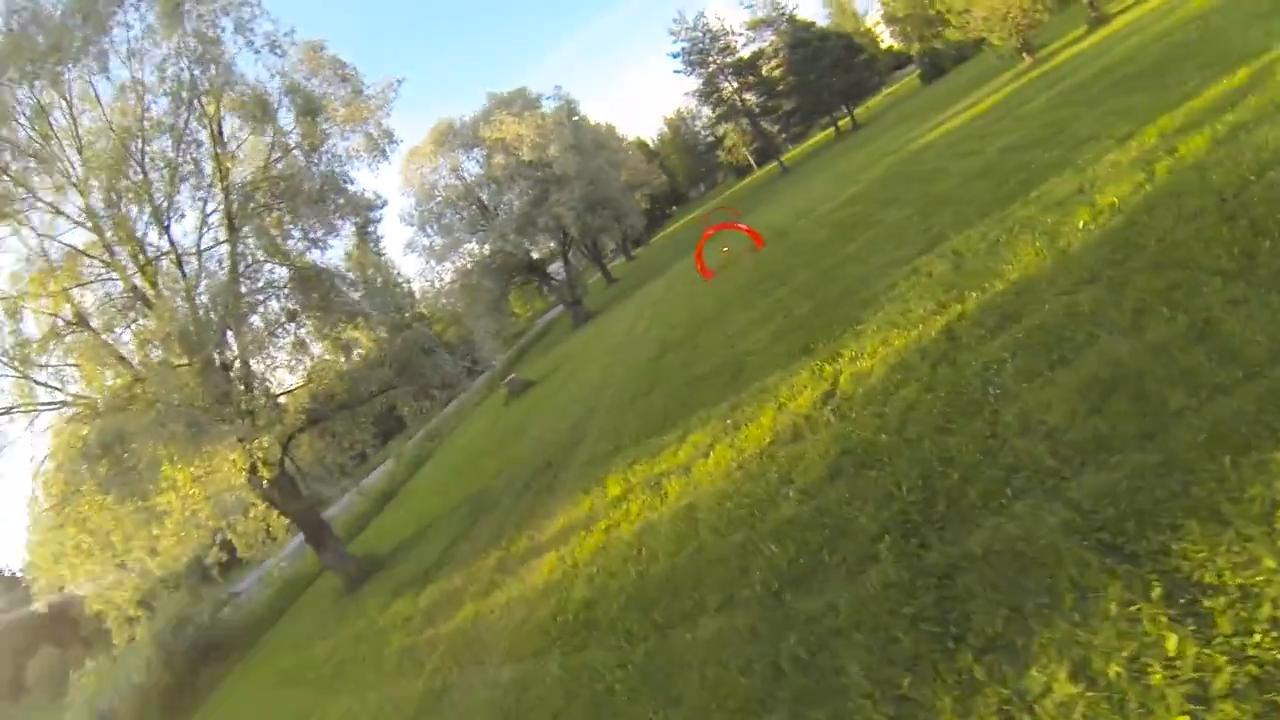gate: (691, 223, 768, 282)
